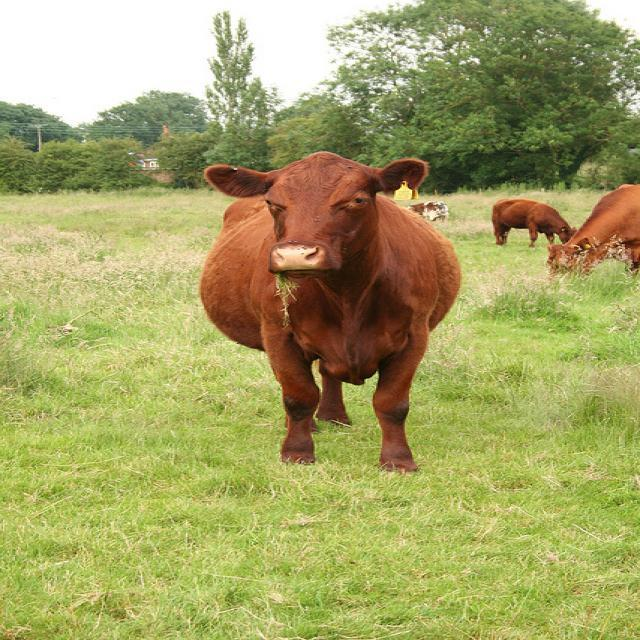cow: (198, 152, 465, 477), (544, 183, 639, 279), (489, 197, 573, 246), (402, 199, 448, 223)
